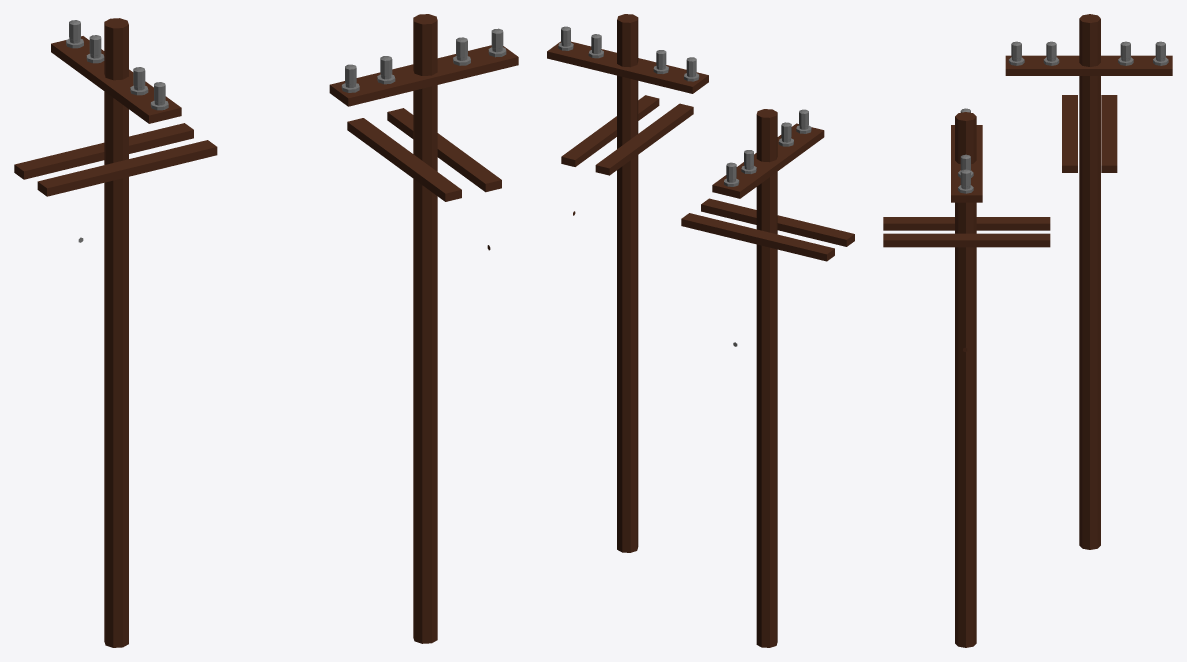
Rendered from TelegraphPoles.fbx.
3 views of the same model, side by side, from view 1: azimuth 30°, elevation 25°; view 2: azimuth 150°, elevation 25°; view 3: azimuth 270°, elevation 25° (orthographic). The views are drawn at different scales.
Parts seen in each view (by area): view 1: TelegraphPole1, TelegraphPole2; view 2: TelegraphPole1, TelegraphPole2; view 3: TelegraphPole1, TelegraphPole2.
Part boxes in pixels (x1,y1,x2,y2): TelegraphPole1: [14, 18, 217, 647]; TelegraphPole2: [329, 14, 518, 643]; TelegraphPole1: [681, 109, 854, 647]; TelegraphPole2: [547, 14, 708, 552]; TelegraphPole1: [1005, 14, 1172, 549]; TelegraphPole2: [883, 108, 1050, 647].
Size of the model in its own units: 267 by 368 by 537.
